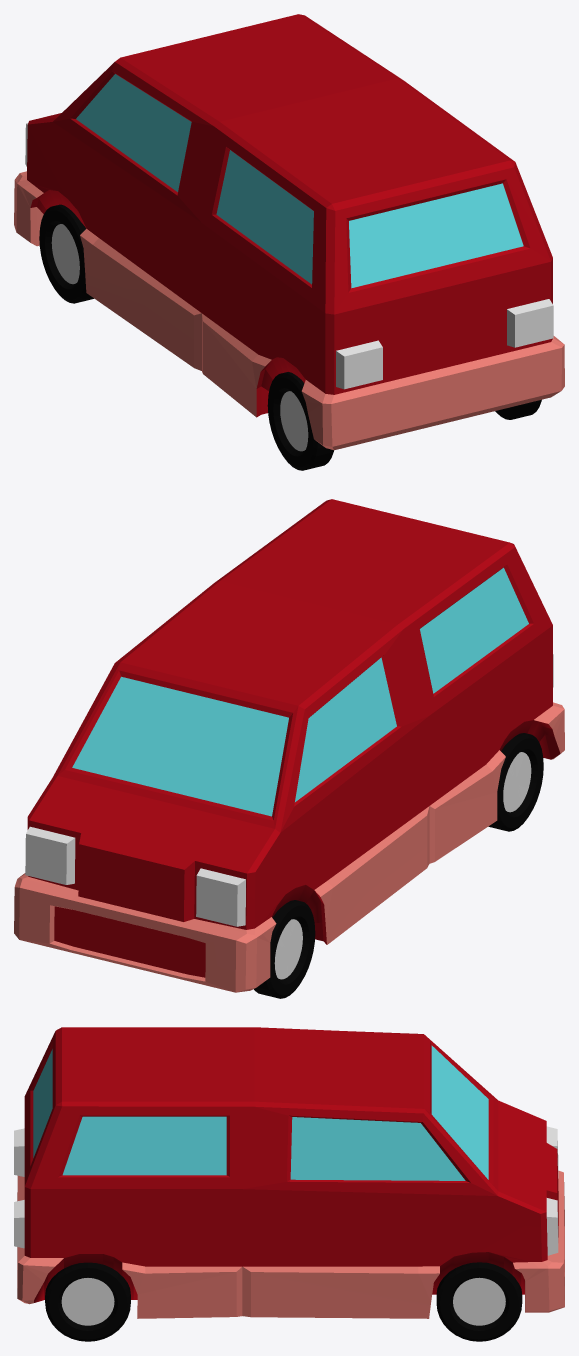
The model's file is C-Wagon.fbx.
3 renders of one model, top to bottom at view 1: azimuth 30°, elevation 25°; view 2: azimuth 150°, elevation 25°; view 3: azimuth 270°, elevation 25°, orthographic. The views are drawn at different scales.
Parts seen in each view (by area): view 1: Wagon; view 2: Wagon; view 3: Wagon.
Part boxes in pixels (box(x1,y1,x2,y2)): Wagon: box(14, 14, 564, 470); Wagon: box(14, 499, 564, 998); Wagon: box(14, 1027, 564, 1341).
Size of the model in its own units: 44.29 by 46.1 by 100.
